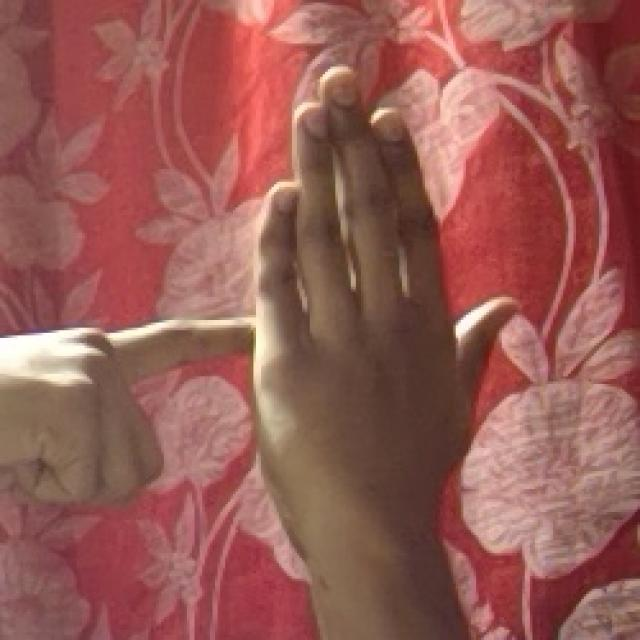Alphabet-R: (0, 38, 543, 553)
